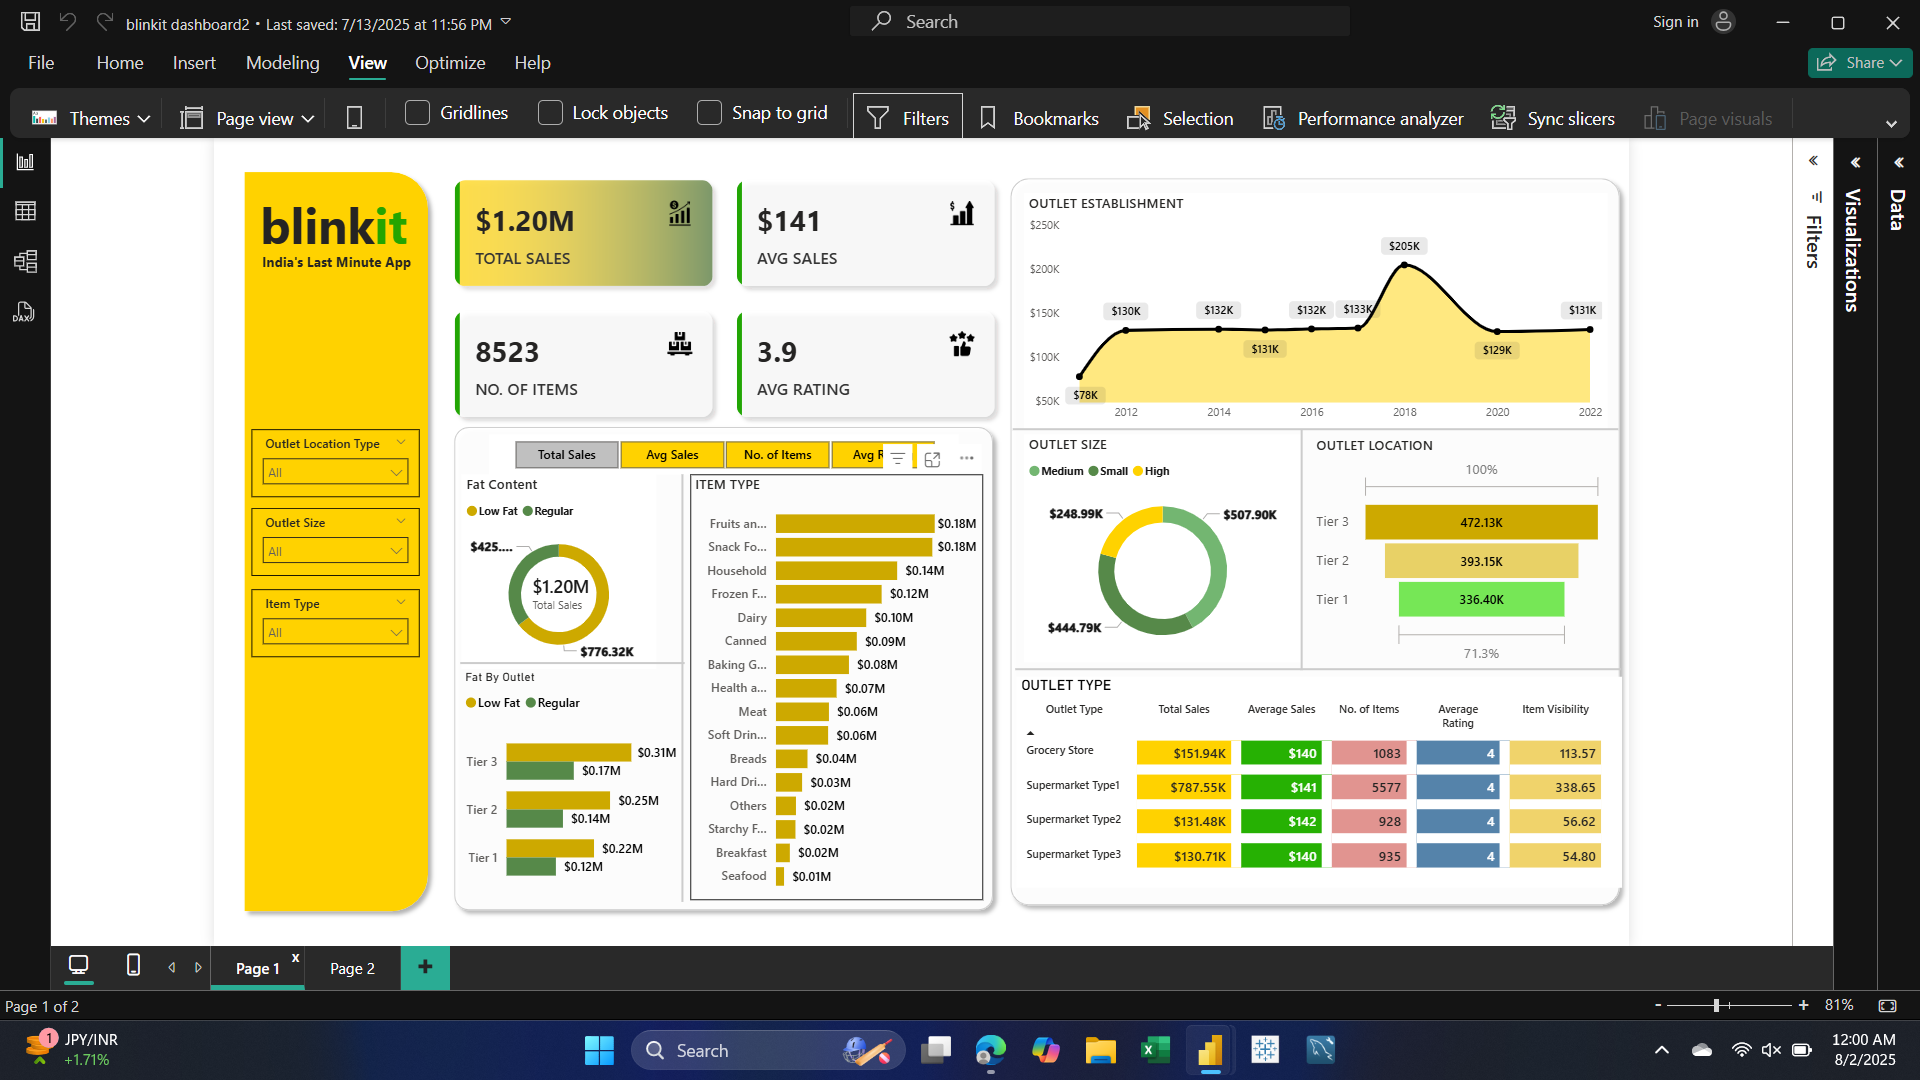

This screenshot's page, from the dashboard's own definition file:
{"tool":"powerbi","page":{"name":"Page 1","canvas":[1400,800],"ordinal":0},"visuals":[{"type":"shape","box":[21.4,24.1,199.7,749.3],"z":0},{"type":"textbox","box":[40.2,48.3,167.6,76.4],"z":1000},{"type":"textbox","box":[37.5,108.6,168.9,29.5],"z":2000},{"type":"cardVisual","fields":{"Data":["BlinkIT Grocery Data.Total Sales","BlinkIT Grocery Data.Average Sales","BlinkIT Grocery Data.No. of Items","BlinkIT Grocery Data.Average Rating"]},"box":[221.2,24.1,569.7,269.4],"z":3000},{"type":"shape","box":[229.2,277.5,550.9,496],"z":4000},{"type":"donutChart","title":"Fat Content","fields":{"Y":["BlinkIT Grocery Data.Total Sales"],"Category":["BlinkIT Grocery Data.Item Fat Content"]},"box":[244.3,332.9,192.9,192.9],"z":5000},{"type":"slicer","fields":{"Values":["Metrics.Metrics"]},"box":[272.1,293.6,465.1,40.2],"z":6000},{"type":"cardVisual","fields":{"Data":["BlinkIT Grocery Data.Total Sales"]},"box":[298.6,412.9,92.9,74.3],"z":7000},{"type":"clusteredBarChart","title":"ITEM TYPE ","fields":{"Y":["BlinkIT Grocery Data.Total Sales"],"Category":["BlinkIT Grocery Data.Item Type"]},"box":[471.8,333.1,288.7,421.9],"z":8000},{"type":"clusteredBarChart","title":"Fat By Outlet","fields":{"Y":["BlinkIT Grocery Data.Total Sales"],"Category":["BlinkIT Grocery Data.Outlet Location Type"],"Series":["BlinkIT Grocery Data.Item Fat Content"]},"box":[244.3,526,219.3,230.4],"z":9000},{"type":"shape","box":[244.3,513.5,222,12.5],"z":10000},{"type":"shape","box":[455.2,333.1,16.7,423.3],"z":11000},{"type":"shape","box":[778.8,30.8,620.6,737.3],"z":12000},{"type":"lineChart","title":"OUTLET ESTABLISHMENT","fields":{"Y":["BlinkIT Grocery Data.Total Sales"],"Category":["BlinkIT Grocery Data.Outlet Establishment Year"]},"box":[801,54,577.3,234.5],"z":13000},{"type":"donutChart","title":"OUTLET SIZE","fields":{"Y":["BlinkIT Grocery Data.Total Sales"],"Category":["BlinkIT Grocery Data.Outlet Size"]},"box":[801.6,293.6,274.8,225.2],"z":14000},{"type":"shape","box":[1065.7,288.2,20.1,238.6],"z":15000},{"type":"funnel","title":"OUTLET LOCATION","fields":{"Y":["Sum(BlinkIT Grocery Data.Sales)"],"Category":["BlinkIT Grocery Data.Outlet Location Type"]},"box":[1085.8,294.9,293.6,230.6],"z":16000},{"type":"shape","box":[790.9,280.2,599.2,14.7],"z":17000},{"type":"shape","box":[792.2,518.8,599.2,14.7],"z":18000},{"type":"pivotTable","title":"OUTLET TYPE","fields":{"Rows":["BlinkIT Grocery Data.Outlet Type"],"Values":["BlinkIT Grocery Data.Total Sales","BlinkIT Grocery Data.Average Sales","BlinkIT Grocery Data.No. of Items","BlinkIT Grocery Data.Average Rating","Sum(BlinkIT Grocery Data.Item Visibility)"]},"box":[793.6,533.5,599.2,209.1],"z":19000},{"type":"slicer","fields":{"Values":["BlinkIT Grocery Data.Outlet Location Type"]},"box":[37.5,288.2,166.2,67],"z":20000},{"type":"slicer","fields":{"Values":["BlinkIT Grocery Data.Outlet Size"]},"box":[37.5,366,166.2,67],"z":21000},{"type":"slicer","fields":{"Values":["BlinkIT Grocery Data.Item Type"]},"box":[37.5,446.4,166.2,67],"z":22000}]}

Visuals, with their boxes on the page's 1400x800 design canvas (x1, y1, x2, y2). These are canvas units, not pixel positions in the 1920x1080 screenshot, which may show the page scaled, cropped or inside an application window:
shape: crop(21, 24, 221, 773)
textbox: crop(40, 48, 208, 125)
textbox: crop(38, 109, 206, 138)
cardVisual - BlinkIT Grocery Data.Total Sales x BlinkIT Grocery Data.Average Sales: crop(221, 24, 791, 294)
shape: crop(229, 278, 780, 774)
"Fat Content" donutChart: crop(244, 333, 437, 526)
slicer - Metrics.Metrics: crop(272, 294, 737, 334)
cardVisual - BlinkIT Grocery Data.Total Sales: crop(299, 413, 392, 487)
"ITEM TYPE " clusteredBarChart: crop(472, 333, 760, 755)
"Fat By Outlet" clusteredBarChart: crop(244, 526, 464, 756)
shape: crop(244, 514, 466, 526)
shape: crop(455, 333, 472, 756)
shape: crop(779, 31, 1399, 768)
"OUTLET ESTABLISHMENT" lineChart: crop(801, 54, 1378, 288)
"OUTLET SIZE" donutChart: crop(802, 294, 1076, 519)
shape: crop(1066, 288, 1086, 527)
"OUTLET LOCATION" funnel: crop(1086, 295, 1379, 526)
shape: crop(791, 280, 1390, 295)
shape: crop(792, 519, 1391, 534)
"OUTLET TYPE" pivotTable: crop(794, 534, 1393, 743)
slicer - BlinkIT Grocery Data.Outlet Location Type: crop(38, 288, 204, 355)
slicer - BlinkIT Grocery Data.Outlet Size: crop(38, 366, 204, 433)
slicer - BlinkIT Grocery Data.Item Type: crop(38, 446, 204, 513)
